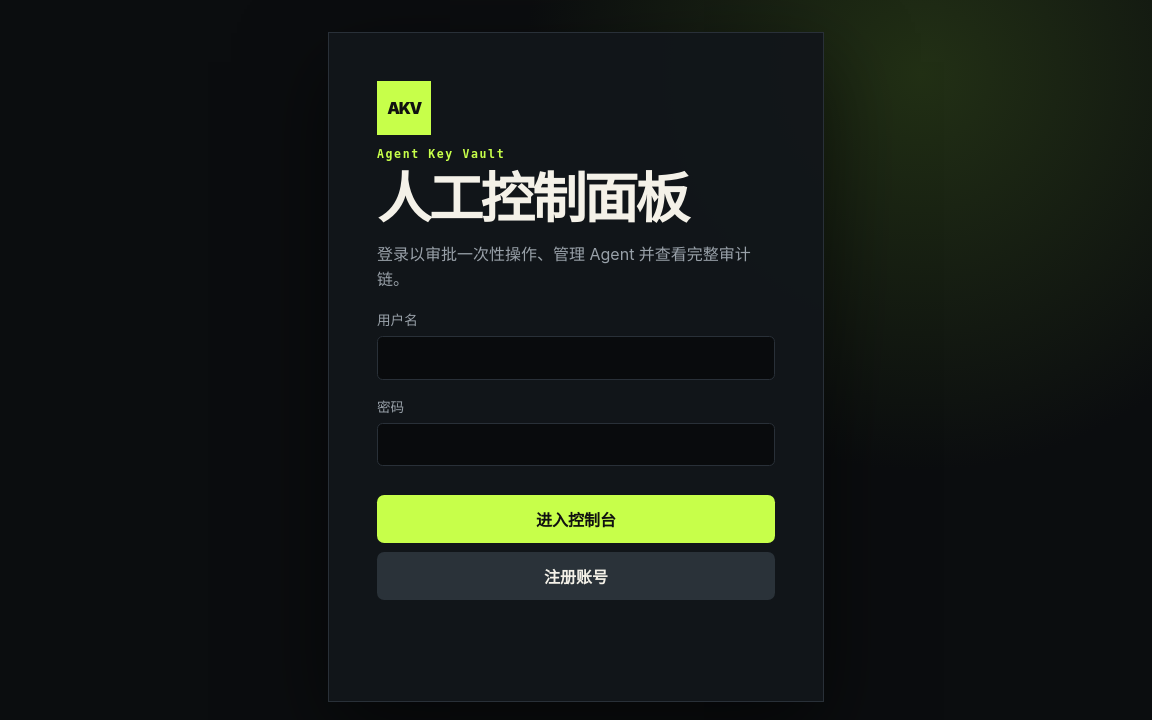
Test: authentication view transition › switches between login and registration forms
Click the button with class "auth-switch" at (576, 576), box [377,552,775,600]
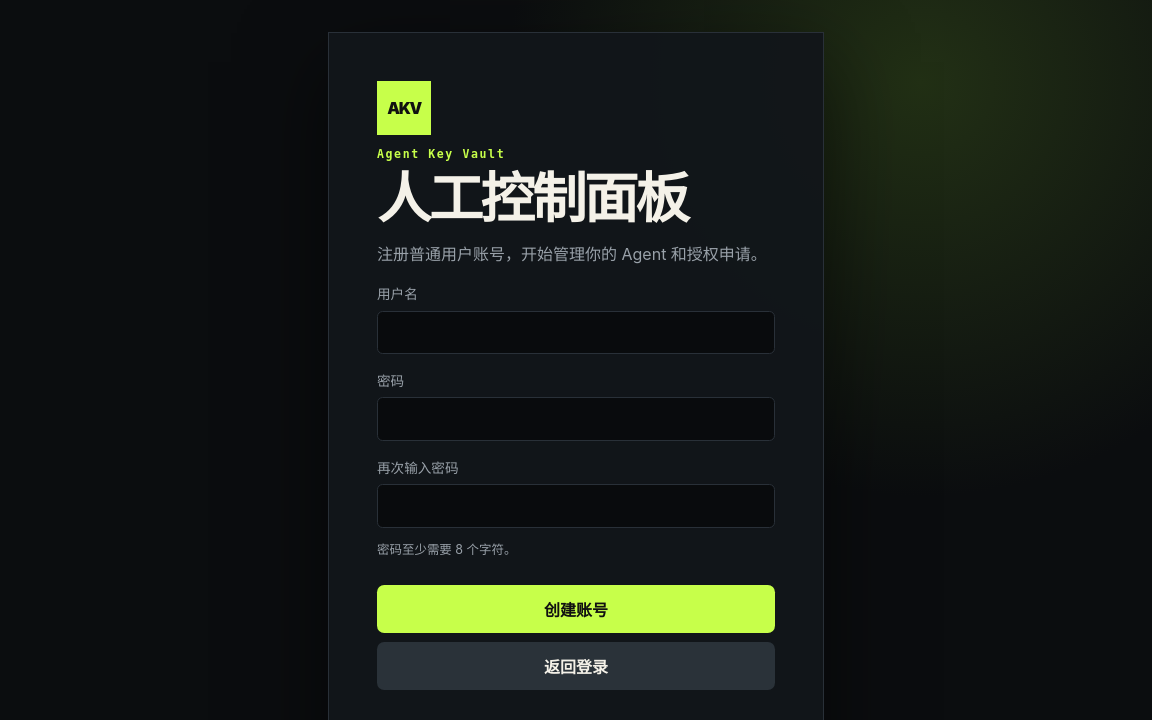
Check: the submit button reads "创建账号", box [377,585,775,633]
Check: the password field named "password_confirmation" is shown, box [377,484,775,528]
Click the button with class "auth-switch" at (576, 666), box [377,642,775,690]
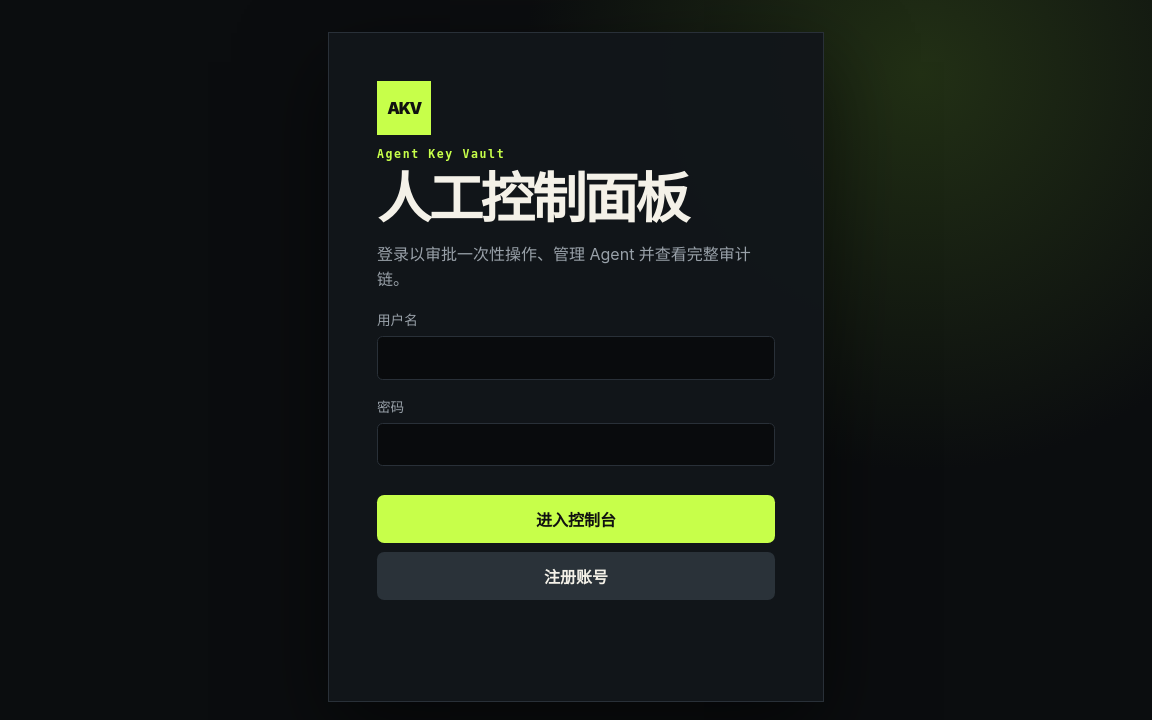
Check: the submit button reads "进入控制台", box [377,495,775,543]
